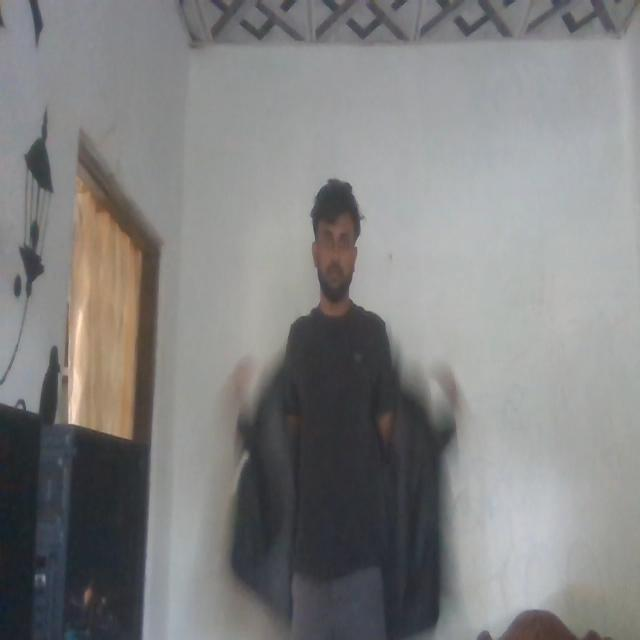Jacket_Wearer: (230, 319, 460, 622)
Person: (251, 170, 403, 640)
